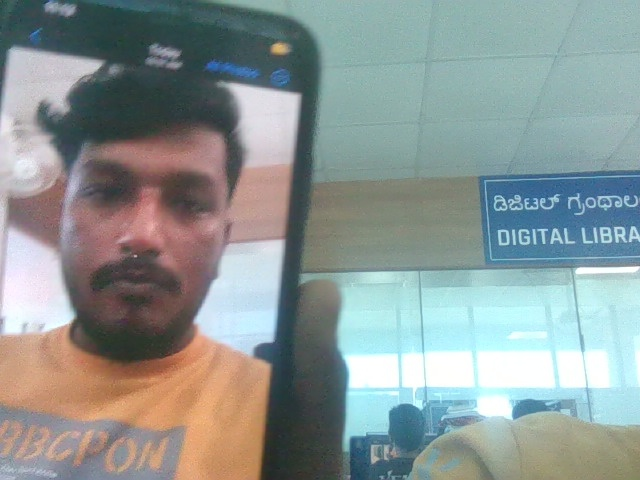fake: (32, 38, 261, 362)
